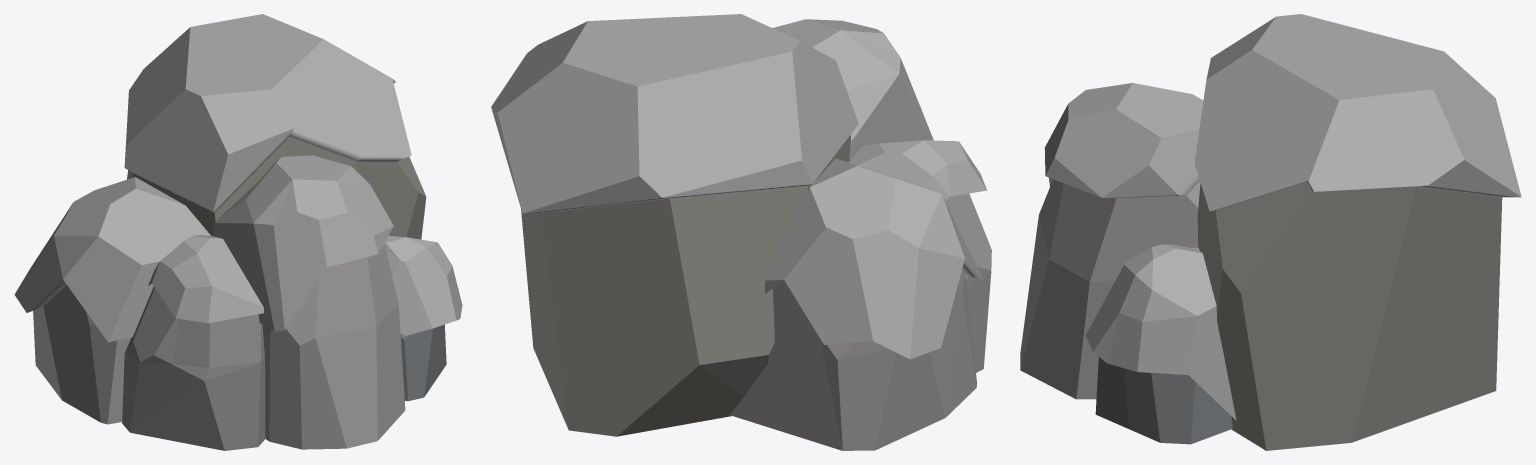
The model's file is Rocks_Round_l_02.fbx.
The picture shows the model from 3 angles, left to right: view 1: azimuth 30°, elevation 25°; view 2: azimuth 150°, elevation 25°; view 3: azimuth 270°, elevation 25°; orthographic projection. The views are drawn at different scales.
Parts seen in each view (by area): view 1: Rocks_Round_l_02; view 2: Rocks_Round_l_02; view 3: Rocks_Round_l_02.
Boxes of the visible parts, <box> form: Rocks_Round_l_02: <box>14,14,462,450</box>; Rocks_Round_l_02: <box>491,14,991,450</box>; Rocks_Round_l_02: <box>1020,14,1521,450</box>.
Bounding box in the file's own units: 321 × 248 × 340.
